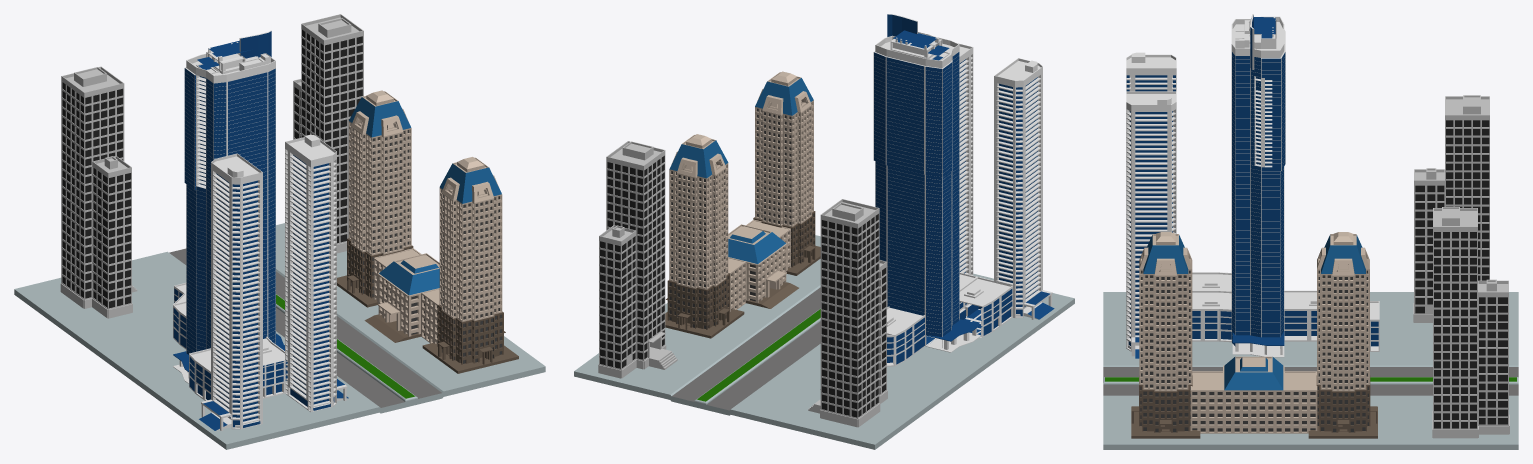
File: city.dae
The picture shows the model from 3 angles, left to right: view 1: azimuth 30°, elevation 25°; view 2: azimuth 150°, elevation 25°; view 3: azimuth 270°, elevation 25°; orthographic projection. The views are drawn at different scales.
Parts seen in each view (by area): view 1: Cube (×4), nha_nho (×2), nha, nha_2.1, nha_2, Cube.1 (×2), nha_nho2, nha_nho2.1, Cube.2, nha_nho1, Cube.3; view 2: Cube (×4), nha_nho (×2), nha, nha_2.1, Cube.1 (×2), nha_2, nha_nho2.1, nha_nho1, Cube.2, Cube.3, sanh1; view 3: Cube (×4), nha_nho (×2), nha, nha_2, Cube.1 (×2), nha_nho1, nha_nho2, nha_2.1, Cube.2 (×2), nha_nho2.1, sanh1, sanh2.
Part boxes in pixels (left/top/right/bottom): Cube (×4): left=14, top=90, right=545, bottom=449; nha_nho (×2): left=60, top=14, right=363, bottom=318; nha: left=184, top=30, right=275, bottom=354; nha_2.1: left=199, top=153, right=262, bottom=431; nha_2: left=285, top=134, right=348, bottom=412; Cube.1 (×2): left=347, top=238, right=505, bottom=364; nha_nho2: left=263, top=336, right=287, bottom=398; nha_nho2.1: left=189, top=348, right=210, bottom=400; Cube.2: left=422, top=343, right=518, bottom=373; nha_nho1: left=173, top=283, right=186, bottom=349; Cube.3: left=364, top=314, right=421, bottom=342; Cube (×4): left=574, top=71, right=1074, bottom=449; nha_nho (×2): left=598, top=141, right=887, bottom=427; nha: left=873, top=14, right=959, bottom=347; nha_2.1: left=994, top=58, right=1054, bottom=319; Cube.1 (×2): left=666, top=211, right=815, bottom=329; nha_2: left=958, top=43, right=973, bottom=275; nha_nho2.1: left=959, top=276, right=1012, bottom=337; nha_nho1: left=887, top=306, right=926, bottom=366; Cube.2: left=665, top=309, right=744, bottom=338; Cube.3: left=746, top=282, right=798, bottom=308; sanh1: left=926, top=328, right=980, bottom=352; Cube (×4): left=1103, top=232, right=1518, bottom=449; nha_nho (×2): left=1413, top=95, right=1509, bottom=438; nha: left=1231, top=14, right=1285, bottom=348; nha_2: left=1126, top=91, right=1176, bottom=358; Cube.1 (×2): left=1131, top=375, right=1377, bottom=432; nha_nho1: left=1284, top=290, right=1379, bottom=351; nha_nho2: left=1192, top=290, right=1231, bottom=342; nha_2.1: left=1126, top=52, right=1176, bottom=91; Cube.2 (×2): left=1131, top=406, right=1377, bottom=438; nha_nho2.1: left=1192, top=272, right=1231, bottom=291; sanh1: left=1232, top=343, right=1284, bottom=357; sanh2: left=1232, top=331, right=1284, bottom=345.
Size of the model in its own units: 1608 by 1610 by 1850.
